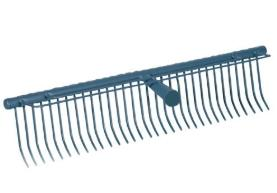RATEAU: (0, 37, 276, 188)
